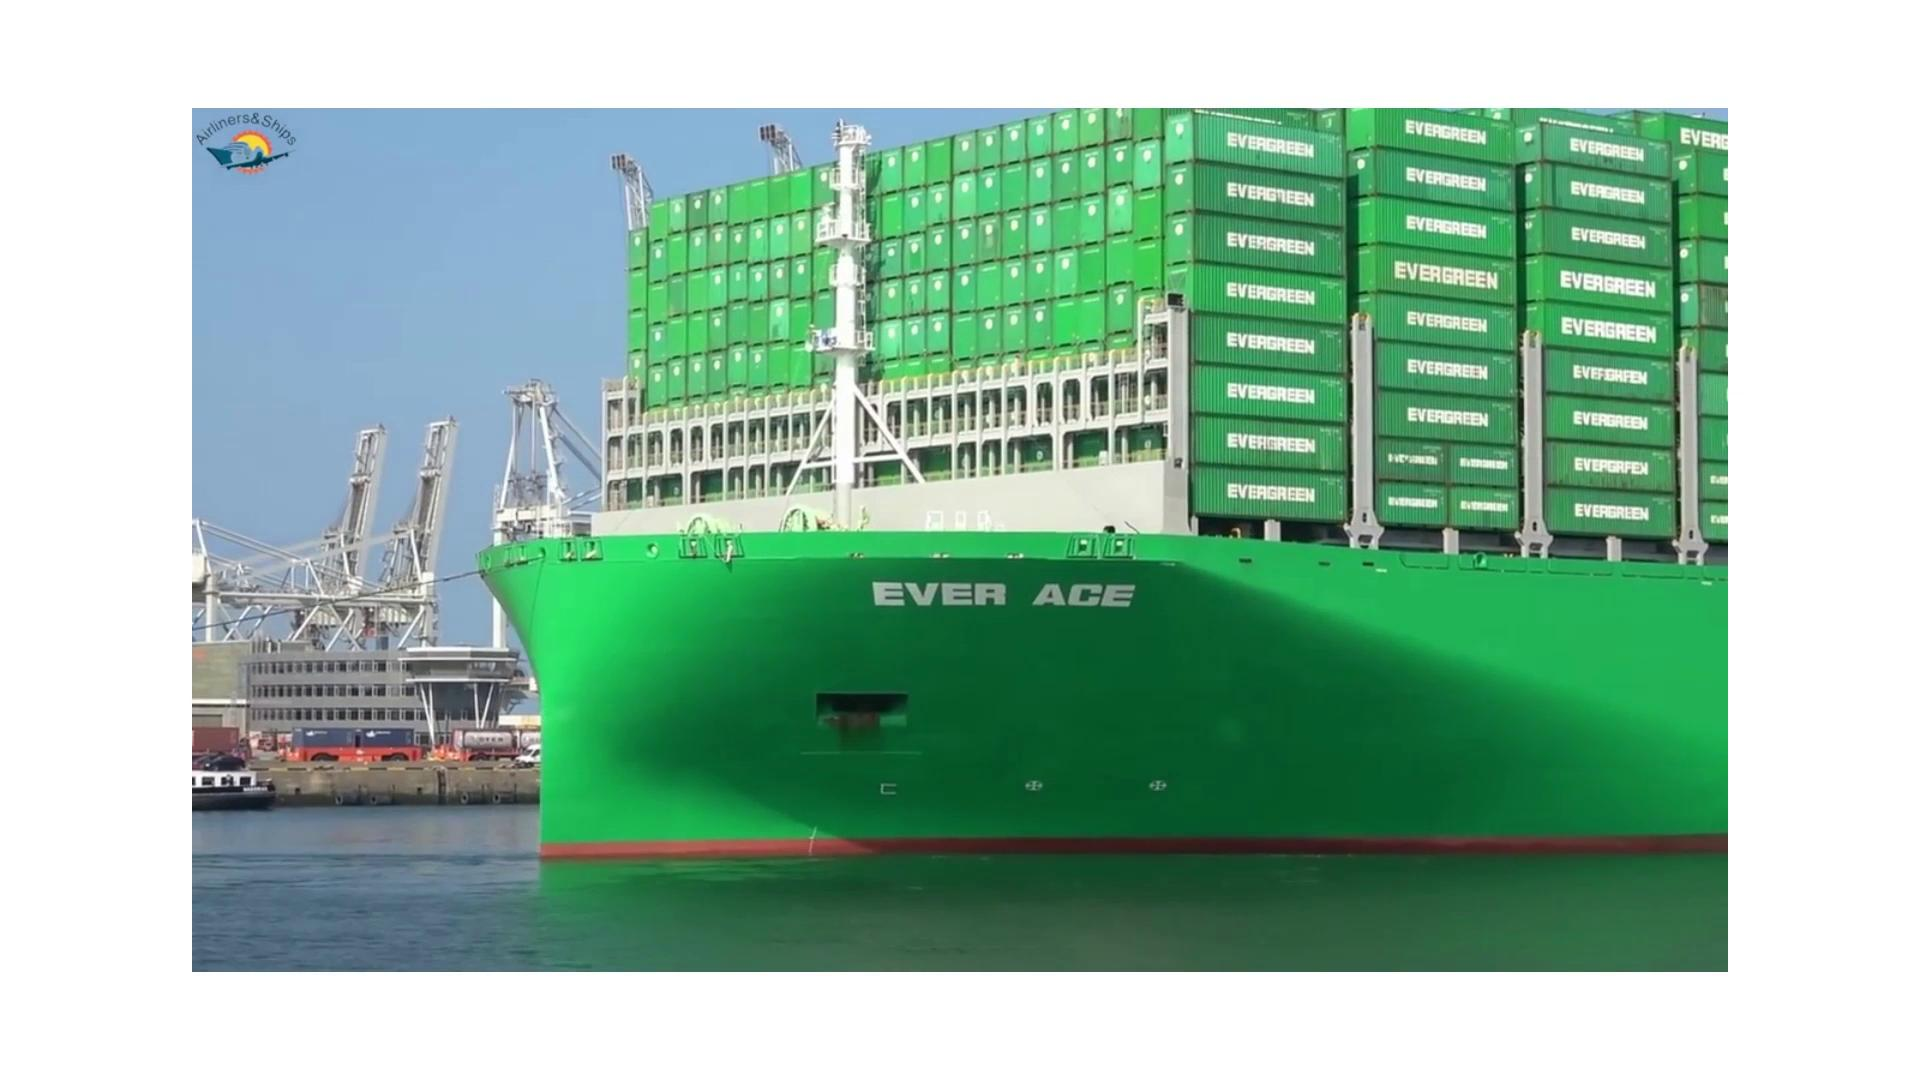OCR: (840, 555, 1159, 641)
